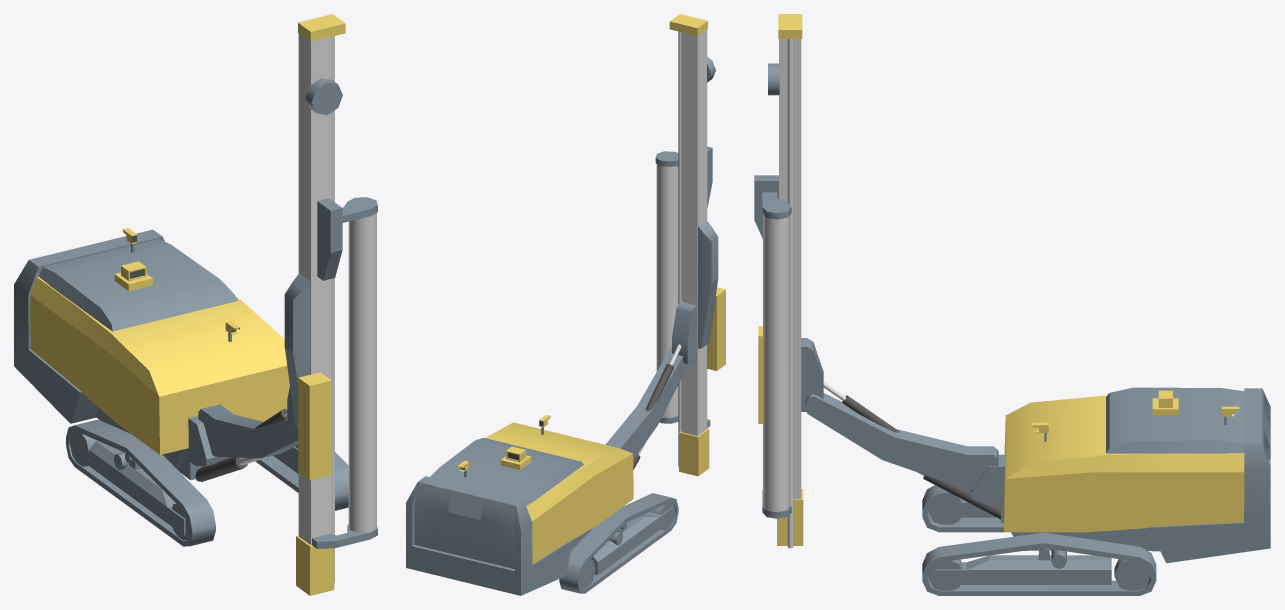
Rendered from D65_driverless_800_v.gltf.
3 views of the same model, side by side, from view 1: azimuth 30°, elevation 25°; view 2: azimuth 150°, elevation 25°; view 3: azimuth 270°, elevation 25° (orthographic). The views are drawn at different scales.
Visible parts, largest first — view 1: D65_driverless; view 2: D65_driverless; view 3: D65_driverless.
Boxes of the visible parts, box(x1,y1,x2,y2) form: D65_driverless: box(14, 14, 377, 595); D65_driverless: box(406, 14, 725, 595); D65_driverless: box(754, 14, 1270, 595).
Bounding box in the file's own units: 2.65 × 8.66 × 7.71.
